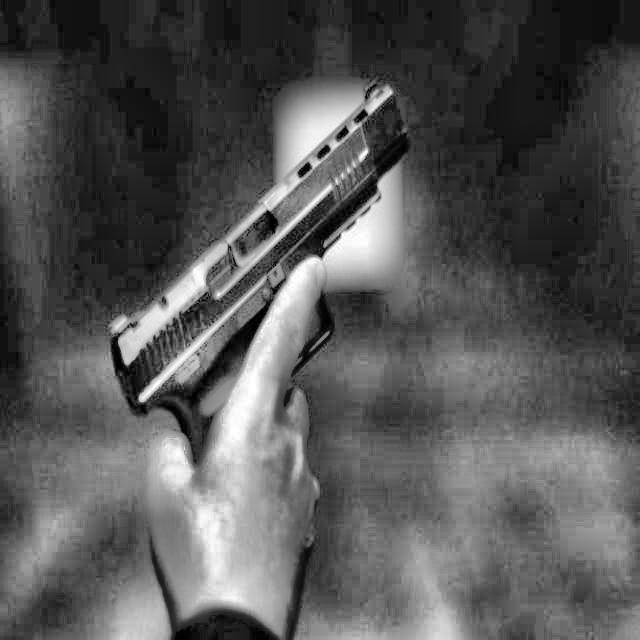pistol: (89, 57, 428, 490)
